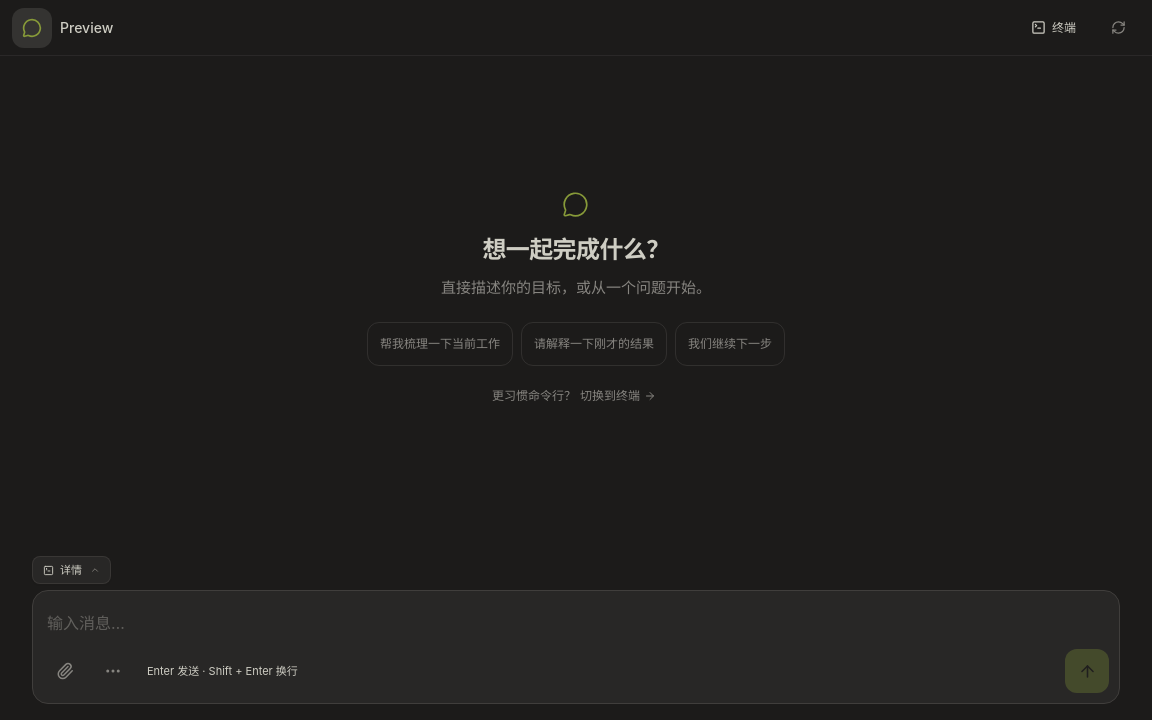
scoped encrypted terminal viewer › switches between explicitly shared chat and terminal preview locally without changing owner preferences
This screenshot has width=1152, height=720.
Check: the heading "想一起完成什么？" is shown, box [482,234,670,266]
Click the button "终端": click(1054, 28) [1019,6,1088,50]
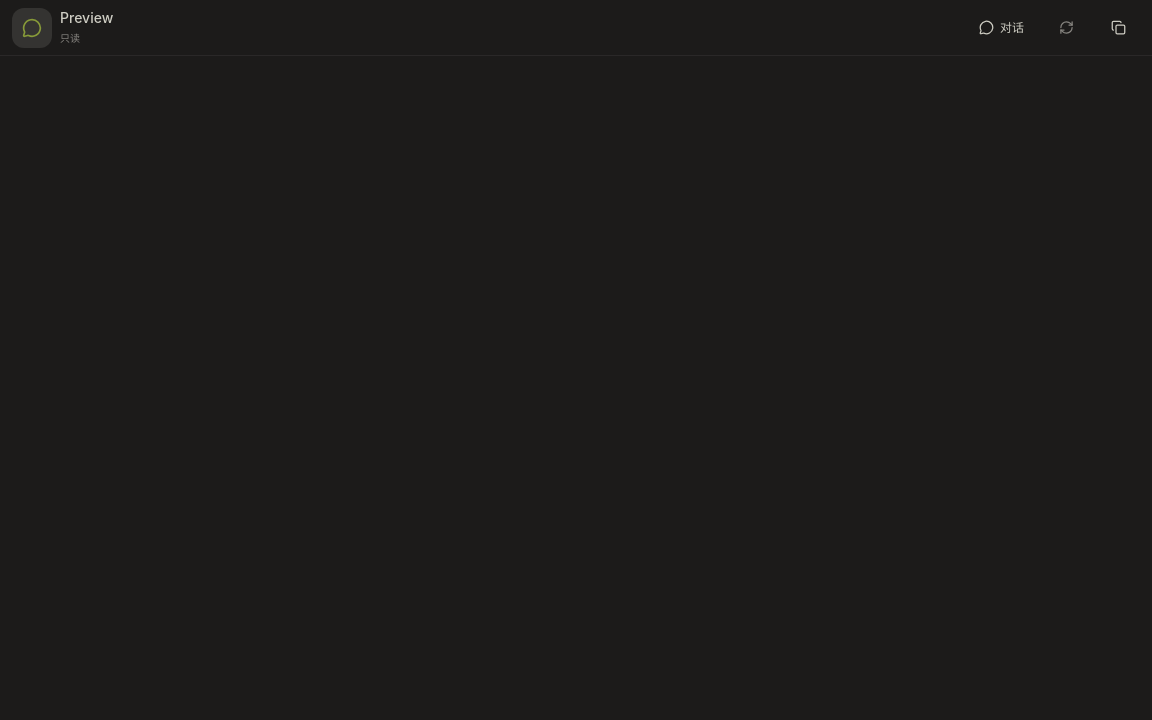
Check: the button "对话" is shown, box [967,6,1036,50]
